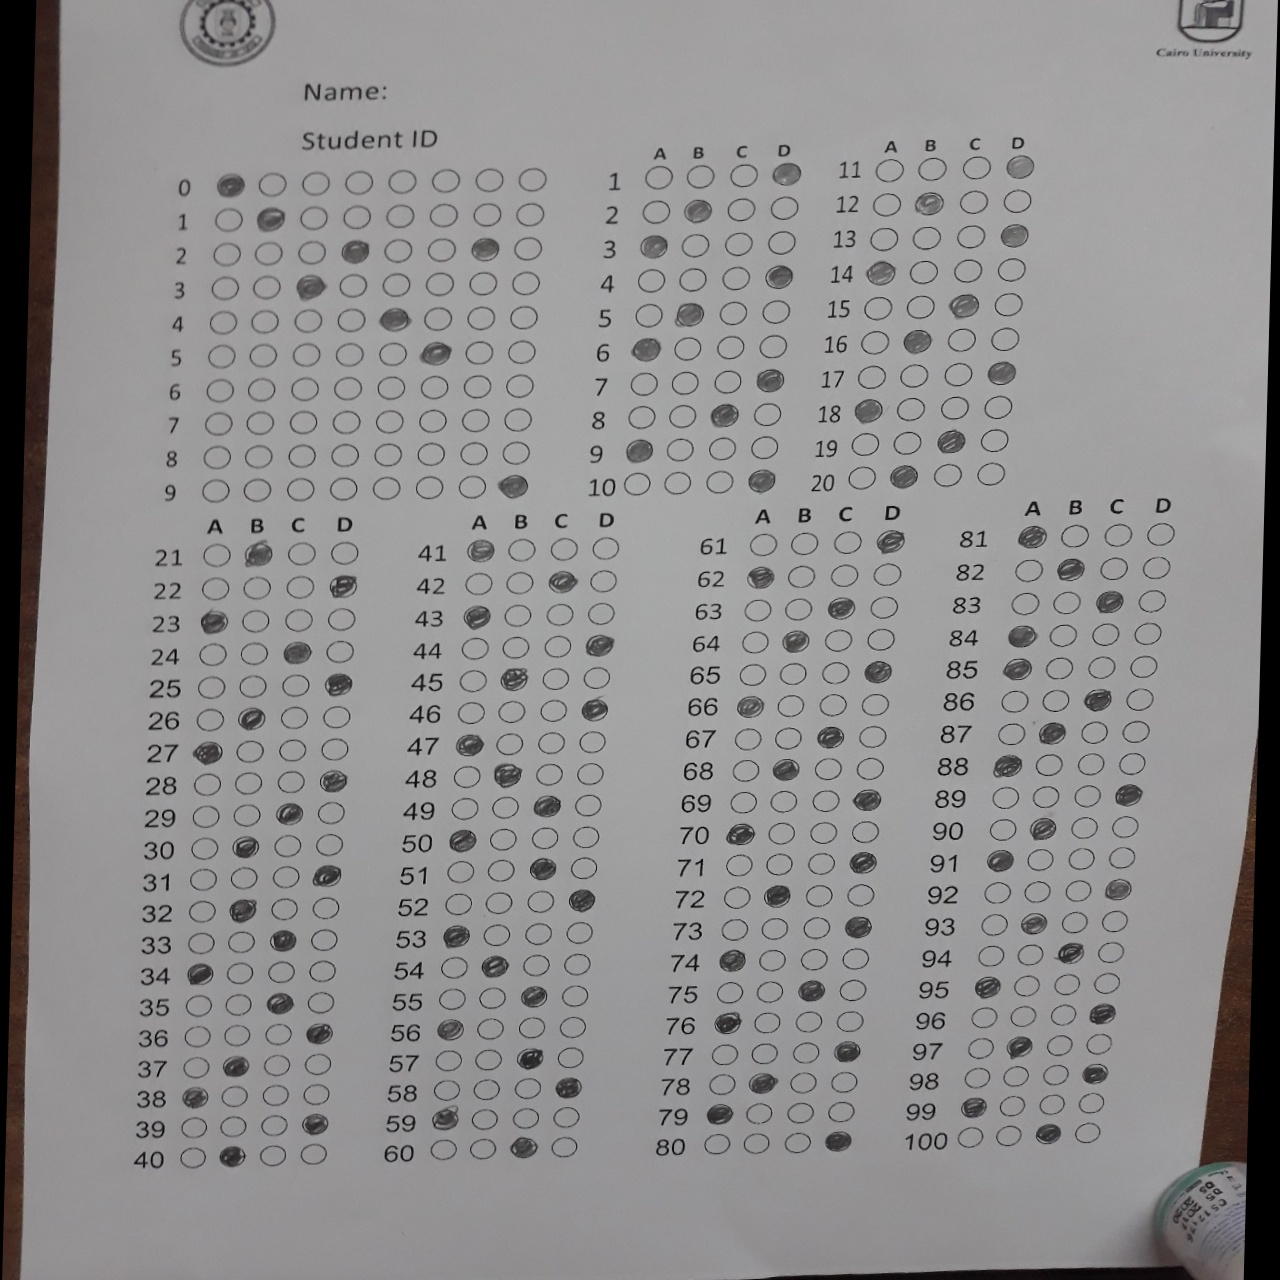not-c: (1133, 585, 1167, 614), (386, 166, 418, 196), (338, 270, 370, 299), (501, 437, 533, 467), (332, 374, 365, 403), (856, 362, 888, 392), (849, 430, 881, 459), (1115, 749, 1148, 778), (256, 169, 290, 197), (425, 234, 459, 263), (297, 238, 331, 266), (459, 372, 493, 400), (290, 340, 324, 368), (663, 436, 697, 464), (726, 161, 760, 189), (956, 188, 990, 216), (949, 256, 983, 284), (862, 293, 896, 321), (1141, 554, 1175, 583), (1126, 651, 1160, 679), (978, 910, 1012, 938), (287, 441, 319, 470), (1032, 781, 1063, 810), (298, 204, 331, 232), (341, 203, 374, 231), (384, 200, 417, 229), (427, 200, 459, 229), (250, 239, 282, 267), (207, 308, 240, 336), (248, 308, 281, 336), (292, 306, 325, 334), (334, 307, 367, 335), (423, 268, 456, 297), (420, 302, 452, 331), (509, 268, 542, 297), (516, 165, 549, 193), (512, 200, 545, 229), (511, 234, 544, 263), (416, 373, 449, 401), (501, 406, 533, 434), (459, 406, 492, 434), (415, 472, 448, 501), (374, 407, 407, 435), (328, 440, 361, 468), (331, 407, 363, 435), (290, 375, 322, 403), (244, 409, 277, 437), (207, 341, 240, 369), (205, 376, 238, 404), (202, 408, 234, 436), (200, 442, 233, 470), (199, 476, 232, 504), (703, 467, 736, 495), (665, 401, 697, 429), (627, 369, 660, 397), (712, 368, 744, 396), (713, 333, 745, 361), (757, 332, 790, 360), (760, 298, 792, 326), (717, 299, 750, 327), (636, 266, 669, 294), (676, 265, 709, 293), (679, 230, 712, 258), (640, 196, 673, 224), (872, 155, 905, 183), (914, 154, 947, 182), (910, 224, 942, 252), (860, 327, 893, 355), (989, 324, 1022, 352), (894, 394, 927, 422), (890, 428, 922, 456), (931, 459, 964, 488), (1101, 520, 1133, 549), (1050, 588, 1083, 617), (1088, 619, 1121, 647), (1085, 653, 1118, 681), (999, 687, 1032, 715), (1117, 719, 1150, 747), (1122, 686, 1155, 714), (1032, 750, 1064, 778), (1071, 779, 1104, 808), (1108, 812, 1141, 840), (983, 879, 1016, 907), (1060, 908, 1092, 937), (1008, 1002, 1041, 1030), (1047, 1000, 1080, 1028), (372, 474, 406, 501), (1065, 845, 1099, 872), (1133, 619, 1164, 648), (989, 816, 1020, 845), (212, 204, 244, 232), (342, 168, 374, 196), (471, 200, 503, 229), (474, 166, 505, 195), (383, 236, 415, 264), (209, 272, 240, 300), (380, 268, 411, 297), (464, 304, 496, 332), (464, 338, 496, 366), (414, 440, 445, 468), (327, 475, 359, 503), (334, 341, 366, 369), (241, 477, 273, 505), (246, 341, 278, 369), (662, 467, 694, 495), (749, 434, 781, 462), (749, 401, 781, 429), (668, 368, 700, 396), (721, 264, 753, 292), (723, 230, 755, 258), (767, 195, 798, 223), (685, 162, 716, 190), (1002, 186, 1034, 215), (869, 224, 900, 252), (906, 257, 938, 285), (998, 256, 1029, 284), (905, 293, 937, 321), (846, 464, 878, 492), (983, 392, 1015, 420), (975, 458, 1007, 486), (1146, 518, 1178, 546), (1099, 554, 1131, 583), (1014, 554, 1046, 583), (1012, 588, 1043, 617), (1048, 620, 1080, 648), (1043, 654, 1075, 682), (1039, 687, 1070, 715), (996, 720, 1028, 748), (1077, 717, 1109, 745), (990, 783, 1022, 811), (1022, 878, 1054, 906), (1063, 874, 1095, 903), (1099, 905, 1131, 933), (1096, 938, 1128, 966), (1092, 969, 1124, 998), (975, 941, 1007, 969), (1043, 1032, 1075, 1060), (468, 271, 501, 298), (375, 372, 408, 399), (373, 441, 406, 468), (243, 443, 275, 470), (621, 470, 654, 497), (704, 435, 737, 462), (625, 403, 658, 430), (634, 300, 667, 327), (726, 195, 758, 222), (870, 190, 903, 217), (959, 154, 992, 181), (993, 290, 1026, 316), (944, 325, 976, 352), (938, 394, 971, 421), (978, 425, 1010, 452), (1068, 813, 1101, 840), (1105, 843, 1138, 870), (1049, 971, 1082, 998), (1014, 940, 1047, 967), (1082, 1029, 1115, 1056), (301, 169, 332, 197), (288, 407, 319, 435), (287, 474, 318, 502), (246, 375, 277, 403), (431, 166, 463, 193), (211, 240, 243, 267), (251, 273, 282, 300), (508, 304, 539, 331), (506, 338, 538, 365), (505, 372, 537, 399), (376, 340, 408, 367), (456, 440, 488, 467), (673, 335, 704, 362), (765, 229, 797, 256), (644, 163, 675, 190), (954, 223, 986, 250), (899, 361, 931, 388), (1077, 749, 1109, 776), (1026, 846, 1057, 873), (1012, 971, 1043, 998), (495, 697, 526, 724), (230, 801, 261, 828), (417, 406, 448, 433), (456, 474, 486, 501), (942, 360, 973, 387), (1057, 523, 1088, 550), (472, 1046, 503, 1073), (456, 697, 486, 724), (549, 535, 579, 561), (782, 1129, 813, 1155), (468, 1105, 499, 1131), (550, 1104, 581, 1130), (434, 1047, 465, 1073), (285, 542, 316, 567), (324, 638, 355, 663), (196, 674, 227, 700), (188, 867, 219, 893), (302, 1050, 334, 1076), (219, 1083, 251, 1109), (520, 951, 550, 978), (561, 949, 591, 976), (539, 665, 568, 692), (580, 663, 610, 690), (591, 535, 620, 561), (268, 896, 298, 922), (181, 1053, 210, 1080), (1040, 1061, 1070, 1087), (1001, 1062, 1032, 1088), (966, 1036, 996, 1062), (971, 1005, 1001, 1030), (998, 1092, 1028, 1118), (1075, 1090, 1105, 1116), (1074, 1119, 1104, 1145), (994, 1121, 1024, 1146), (956, 1123, 987, 1149), (784, 1098, 815, 1124), (743, 1101, 774, 1126), (707, 1073, 737, 1098), (799, 945, 830, 971), (765, 819, 796, 845), (549, 1133, 579, 1159), (467, 1135, 497, 1160), (512, 1075, 543, 1101), (471, 1076, 502, 1102), (475, 1014, 505, 1040), (443, 891, 474, 917), (484, 890, 515, 915), (524, 888, 554, 914), (445, 858, 476, 884), (486, 826, 517, 852), (529, 825, 559, 851), (451, 795, 482, 821), (533, 760, 564, 785), (493, 731, 524, 757), (459, 635, 490, 661), (501, 633, 531, 659), (588, 567, 619, 593), (504, 568, 535, 594), (200, 542, 231, 567), (282, 607, 313, 633), (327, 605, 358, 631), (197, 640, 227, 666), (275, 768, 306, 794), (315, 799, 346, 825), (272, 831, 302, 857), (190, 835, 220, 860), (229, 863, 259, 888), (227, 930, 258, 955), (225, 959, 256, 985), (307, 956, 338, 982), (223, 990, 253, 1016), (260, 1082, 291, 1108), (297, 1141, 327, 1166), (515, 1015, 546, 1040), (557, 981, 588, 1006), (578, 728, 610, 753), (306, 988, 338, 1013), (182, 1023, 213, 1048), (465, 568, 493, 595), (281, 670, 309, 697), (964, 1063, 993, 1089), (741, 1131, 770, 1157), (830, 1068, 859, 1094), (838, 978, 867, 1003), (755, 979, 784, 1005), (757, 946, 787, 972), (801, 913, 830, 939), (760, 915, 789, 941), (808, 821, 837, 846), (811, 788, 840, 813), (769, 788, 798, 813), (857, 723, 886, 749), (821, 659, 850, 685), (869, 593, 898, 619), (433, 1076, 462, 1102), (478, 983, 508, 1009), (568, 856, 598, 881), (491, 794, 520, 819), (457, 667, 486, 693), (331, 540, 360, 566), (199, 576, 229, 601), (195, 706, 224, 731), (233, 769, 263, 795), (271, 863, 300, 888), (185, 928, 215, 954), (184, 992, 213, 1017), (301, 1081, 331, 1107), (701, 1131, 731, 1156), (850, 821, 880, 845), (872, 561, 903, 586), (427, 1136, 457, 1160), (509, 1105, 539, 1130), (556, 1044, 586, 1069), (558, 1014, 588, 1039), (440, 955, 470, 980), (522, 921, 552, 946), (486, 857, 517, 881), (570, 824, 600, 849), (452, 764, 483, 789), (576, 760, 606, 784), (537, 730, 567, 755), (542, 633, 572, 658), (545, 601, 576, 626), (501, 601, 531, 626), (586, 600, 617, 625), (285, 574, 315, 599), (238, 641, 268, 666), (279, 704, 309, 729), (321, 703, 352, 728), (233, 738, 264, 763), (277, 737, 307, 762), (309, 896, 340, 920), (266, 959, 297, 983), (263, 1021, 293, 1046), (219, 1114, 250, 1138), (259, 1114, 290, 1138), (1037, 1090, 1065, 1116), (751, 1040, 779, 1065), (717, 979, 745, 1005), (840, 945, 869, 971), (776, 692, 804, 717), (860, 692, 888, 717), (785, 597, 813, 622), (744, 597, 772, 622), (833, 529, 862, 554), (263, 1051, 291, 1077), (826, 1098, 856, 1123), (835, 1008, 864, 1033), (721, 917, 750, 941), (721, 885, 750, 910), (804, 884, 833, 908), (805, 850, 835, 874), (724, 852, 754, 877), (728, 790, 757, 815), (813, 756, 843, 781), (774, 724, 803, 749), (734, 727, 763, 751), (817, 692, 846, 716), (823, 629, 852, 654), (788, 564, 817, 588), (749, 532, 778, 557), (438, 987, 468, 1012), (481, 922, 510, 947), (573, 792, 602, 817), (539, 697, 568, 722), (508, 537, 537, 561), (240, 576, 270, 600), (319, 735, 348, 760), (192, 770, 222, 795), (190, 803, 219, 828), (314, 831, 343, 856), (188, 898, 217, 922), (308, 926, 338, 951), (179, 1114, 209, 1138), (256, 1143, 285, 1167), (177, 1144, 206, 1169), (564, 920, 594, 944), (238, 674, 268, 697), (712, 1042, 740, 1067), (846, 881, 874, 906), (764, 852, 792, 877), (731, 757, 760, 782), (855, 755, 883, 779), (778, 662, 806, 687), (740, 629, 768, 654), (866, 626, 894, 651), (831, 561, 859, 586), (789, 531, 817, 556), (241, 607, 270, 632), (222, 1022, 250, 1047), (738, 662, 765, 687), (794, 1009, 822, 1033), (794, 1040, 821, 1063), (753, 1010, 779, 1034), (789, 1071, 817, 1094)
taken-c: (377, 302, 409, 331), (339, 237, 370, 265), (294, 272, 326, 300), (216, 170, 248, 197), (462, 601, 492, 629), (583, 632, 613, 660), (831, 1036, 862, 1064), (1055, 554, 1085, 583), (1102, 874, 1132, 903), (471, 234, 502, 263), (822, 1128, 853, 1155), (682, 196, 714, 223), (638, 231, 669, 258), (762, 263, 794, 290), (631, 336, 662, 363), (621, 435, 653, 462), (754, 366, 785, 393), (418, 340, 450, 367), (254, 205, 286, 232), (499, 663, 529, 692), (442, 921, 471, 949), (771, 754, 801, 782), (745, 563, 775, 591), (1094, 588, 1123, 617), (866, 259, 896, 287), (454, 731, 484, 758), (448, 825, 478, 852), (435, 1014, 465, 1041), (515, 1044, 545, 1071), (508, 1133, 538, 1160), (748, 1069, 778, 1096), (796, 976, 826, 1003), (713, 1008, 743, 1035), (842, 913, 872, 940), (761, 883, 791, 910), (735, 692, 765, 719), (863, 656, 893, 683), (779, 626, 810, 653), (1017, 524, 1048, 551), (1007, 622, 1037, 649), (1083, 687, 1114, 714), (992, 753, 1022, 779), (1027, 813, 1057, 840), (985, 847, 1015, 874), (1017, 911, 1048, 938), (973, 972, 1003, 999), (958, 1092, 988, 1119), (888, 462, 919, 489), (985, 359, 1015, 386), (903, 326, 933, 353), (674, 299, 704, 326), (708, 401, 738, 428), (745, 468, 776, 495), (498, 472, 529, 499), (547, 568, 577, 595), (579, 696, 608, 723), (492, 762, 522, 789), (532, 792, 561, 819), (527, 855, 557, 881), (566, 885, 595, 912), (553, 1073, 583, 1099), (431, 1104, 461, 1131), (704, 1099, 734, 1126), (719, 947, 748, 974), (846, 847, 876, 874), (852, 785, 881, 812), (815, 722, 844, 749), (826, 594, 856, 621), (874, 527, 904, 554), (1037, 719, 1067, 745), (1112, 779, 1142, 806), (1057, 939, 1087, 966), (1003, 1033, 1033, 1060), (1088, 998, 1117, 1024), (1080, 1058, 1109, 1085), (937, 428, 966, 455), (853, 399, 883, 425), (949, 292, 979, 319), (915, 189, 945, 216), (1000, 222, 1029, 248), (1005, 154, 1034, 181), (771, 159, 801, 186), (316, 768, 347, 794), (481, 953, 509, 980), (520, 982, 549, 1009), (726, 821, 754, 847), (1003, 654, 1032, 681), (304, 1020, 334, 1044), (263, 990, 293, 1015), (268, 928, 299, 953), (311, 862, 341, 886), (236, 704, 266, 729), (324, 672, 354, 696), (229, 897, 257, 922), (193, 738, 222, 764), (220, 1053, 250, 1077), (273, 801, 302, 825), (281, 638, 311, 662), (217, 1144, 247, 1167), (300, 1111, 331, 1135), (200, 610, 229, 634), (181, 1085, 210, 1109), (244, 542, 273, 565), (1034, 1121, 1061, 1145), (185, 961, 213, 985), (231, 833, 259, 857), (467, 538, 495, 561), (329, 574, 358, 597)
